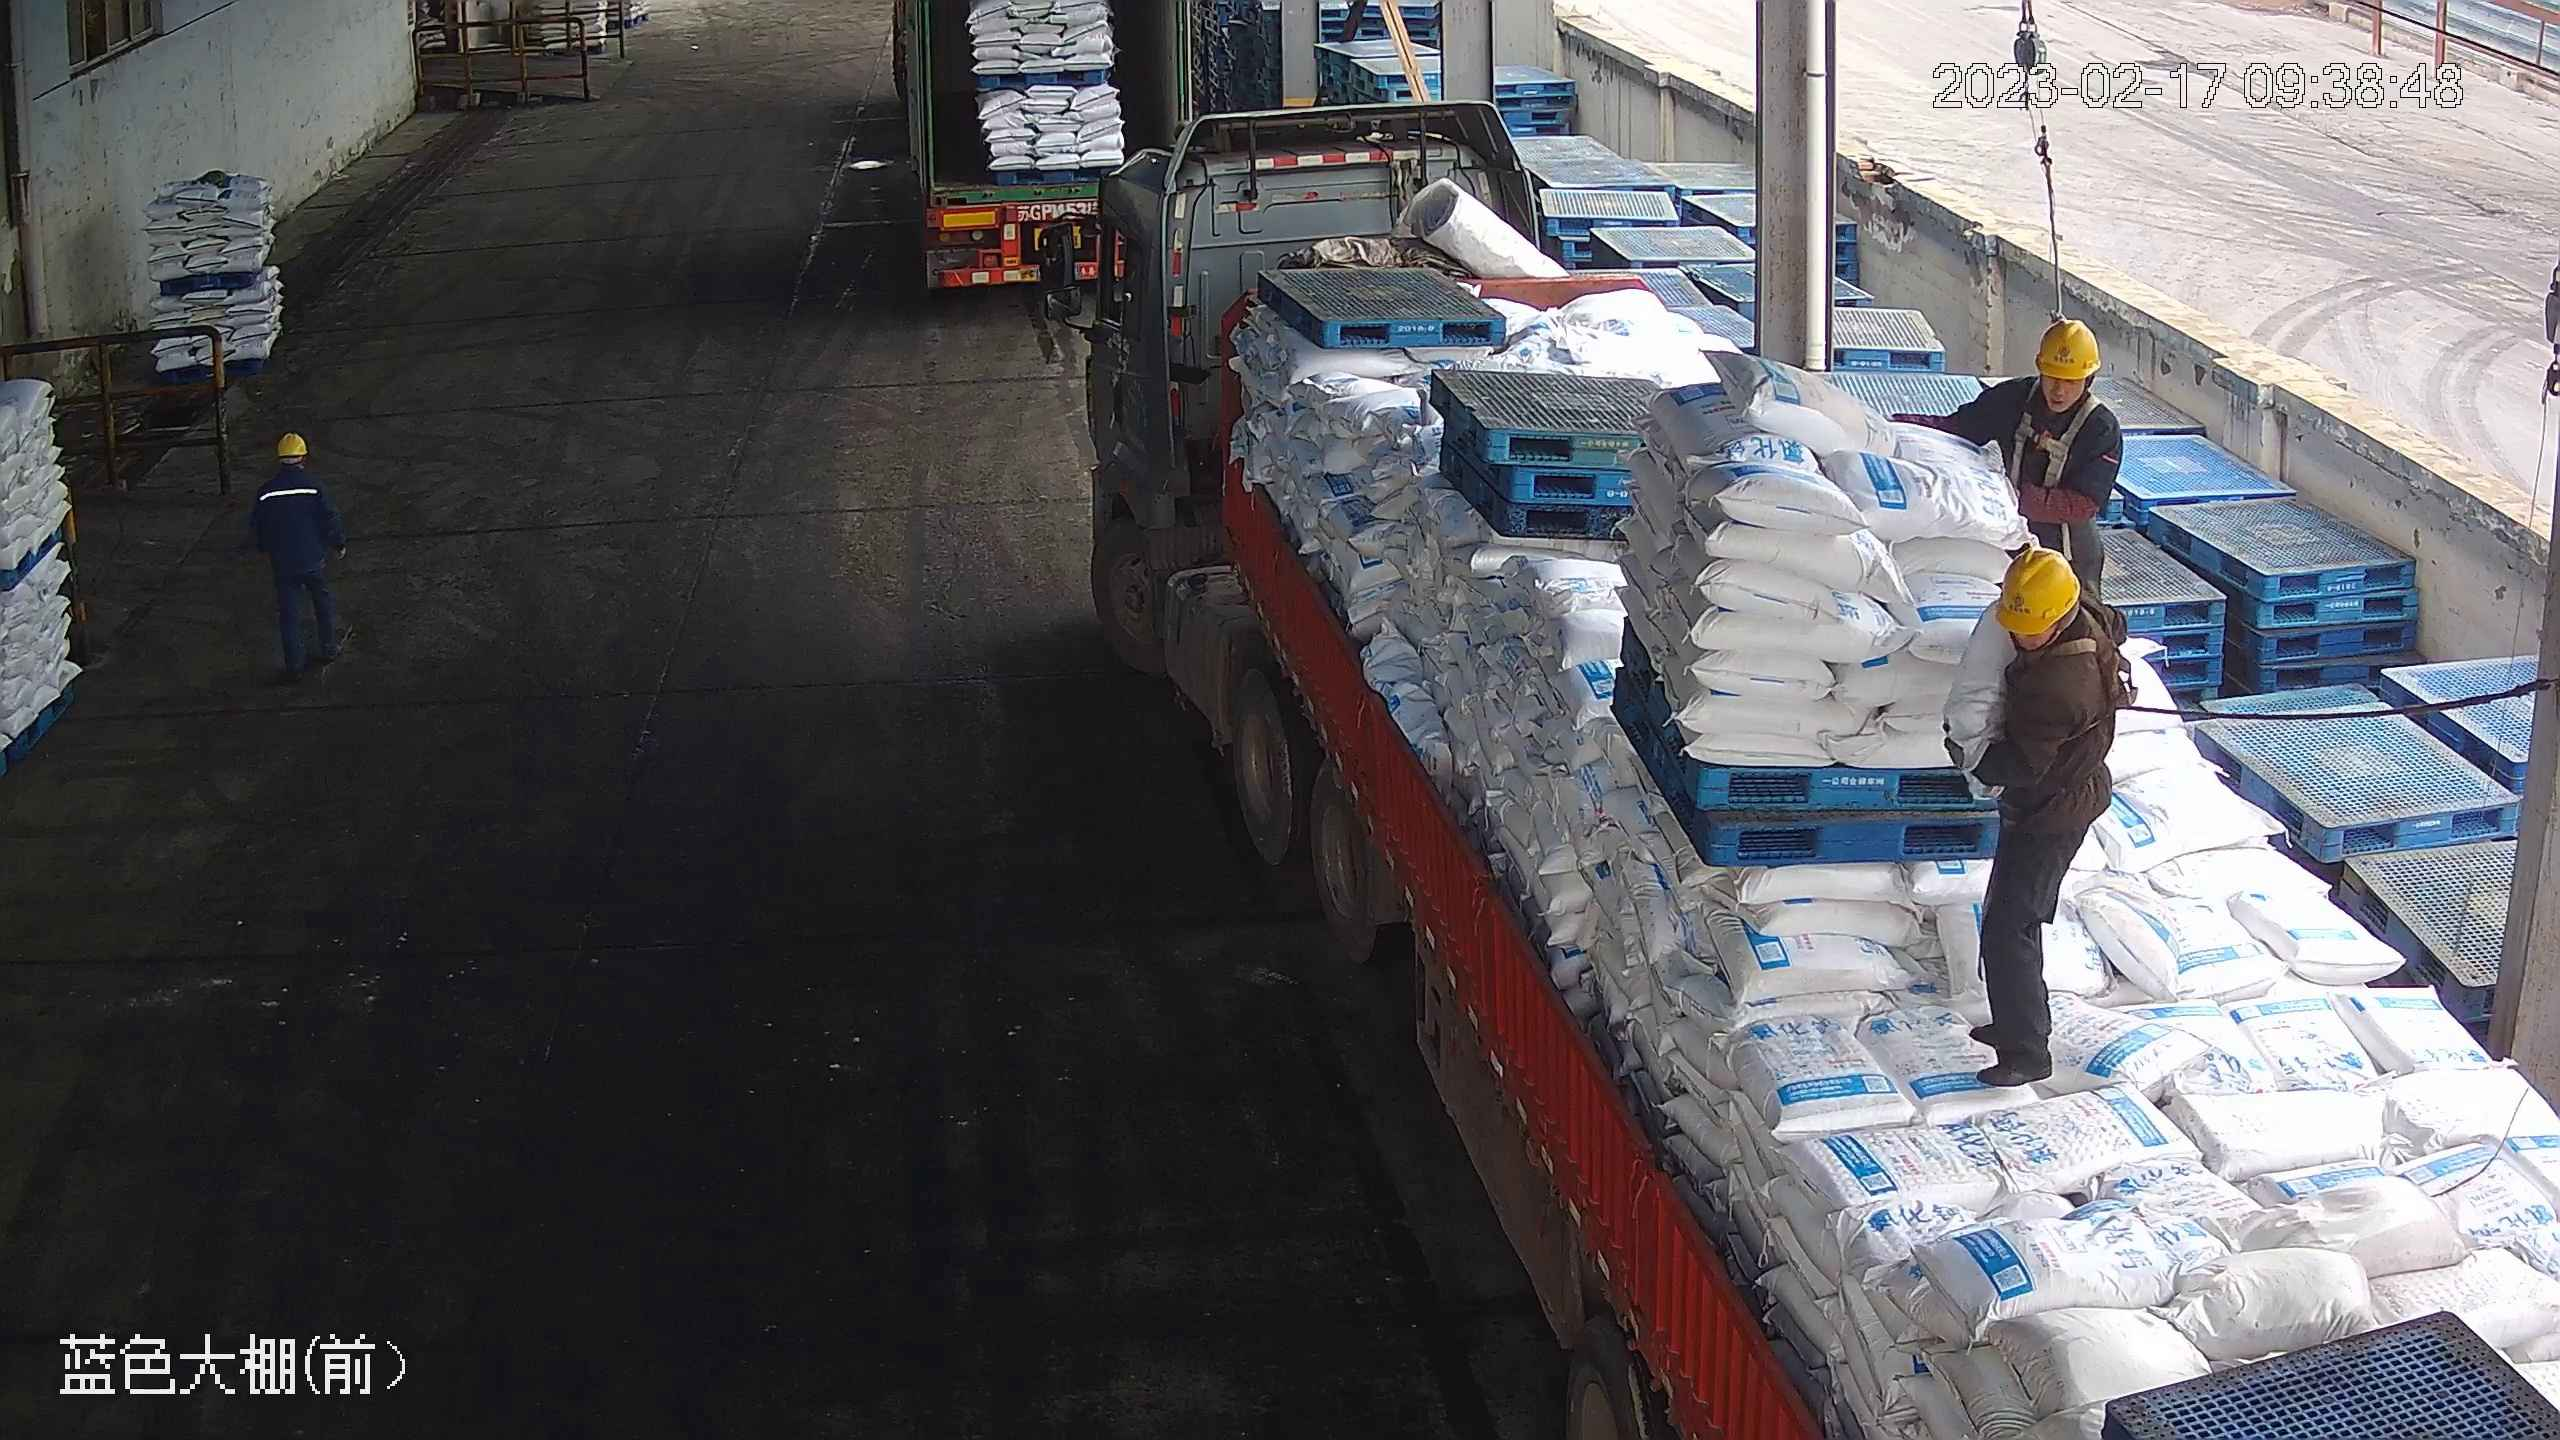belt: (2013, 386, 2103, 488), (2028, 598, 2131, 681)
head: (1983, 311, 2123, 459), (1980, 545, 2121, 687), (249, 428, 327, 505)
helmet: (1990, 542, 2083, 636), (2031, 312, 2103, 382), (273, 428, 308, 458)
people: (1956, 545, 2122, 1093), (1895, 310, 2121, 605), (247, 429, 356, 676)
truck: (1033, 97, 2556, 1440), (890, 1, 1183, 296)
